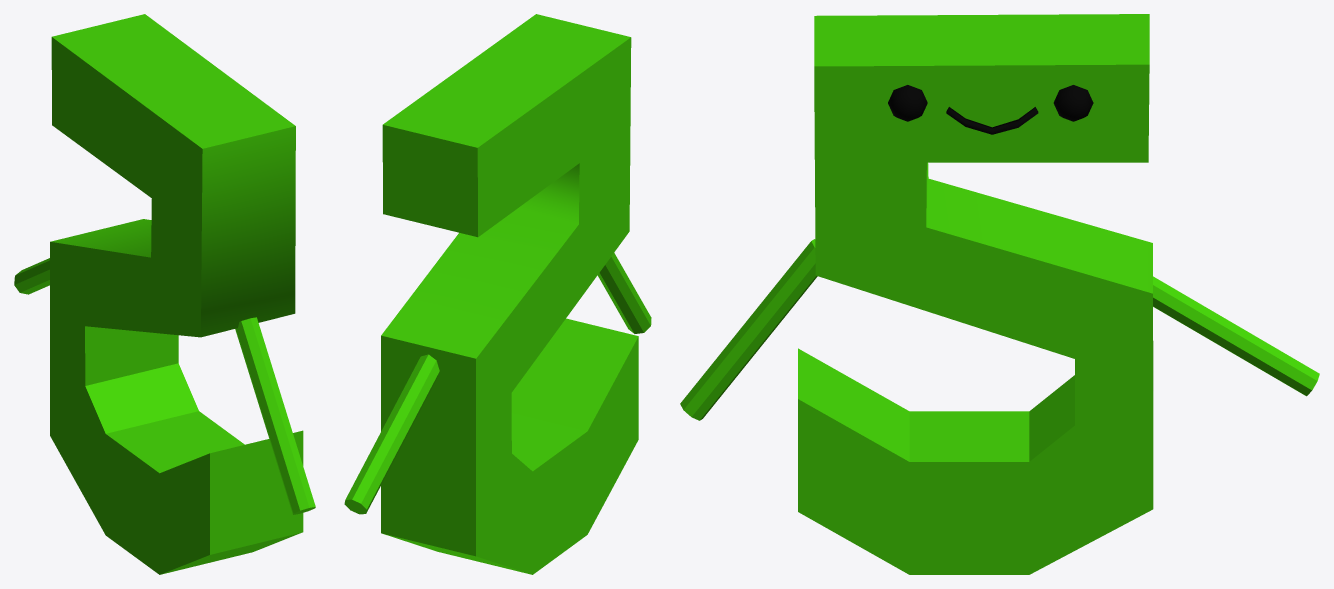
Rendered from MathVil3.fbx.
The picture shows the model from 3 angles, left to right: view 1: azimuth 30°, elevation 25°; view 2: azimuth 150°, elevation 25°; view 3: azimuth 270°, elevation 25°; orthographic projection. The views are drawn at different scales.
Parts seen in each view (by area): view 1: pCylinder10; view 2: pCylinder10; view 3: pCylinder10.
Part boxes in pixels (box(x1,y1,x2,y2)): pCylinder10: box(14, 14, 315, 574); pCylinder10: box(344, 14, 651, 574); pCylinder10: box(680, 14, 1319, 574).
Size of the model in its own units: 1.18 by 4.7 by 5.34.
